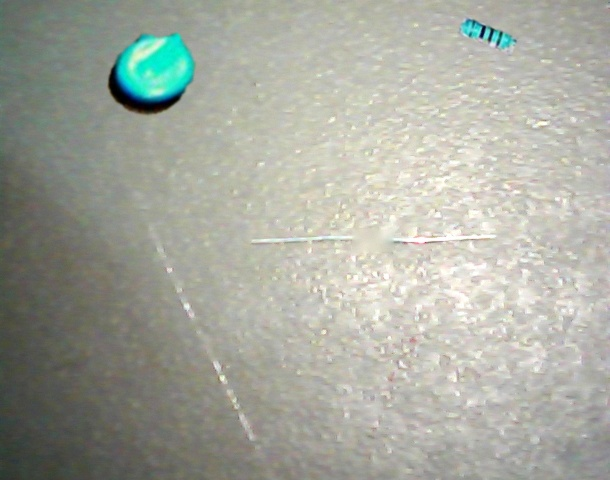capacitor: (107, 33, 195, 115)
resistor: (458, 17, 518, 55)
